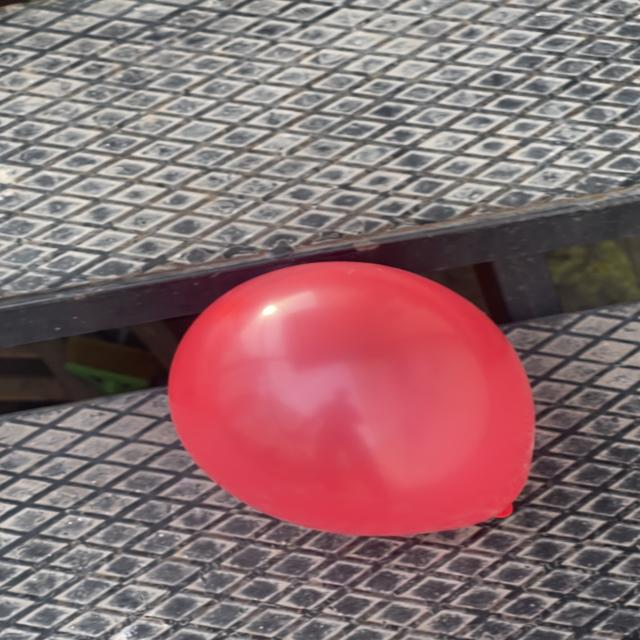balloon: (168, 261, 535, 536)
